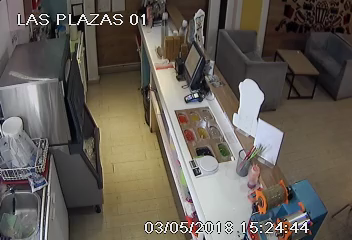libre: (216, 24, 352, 108)
